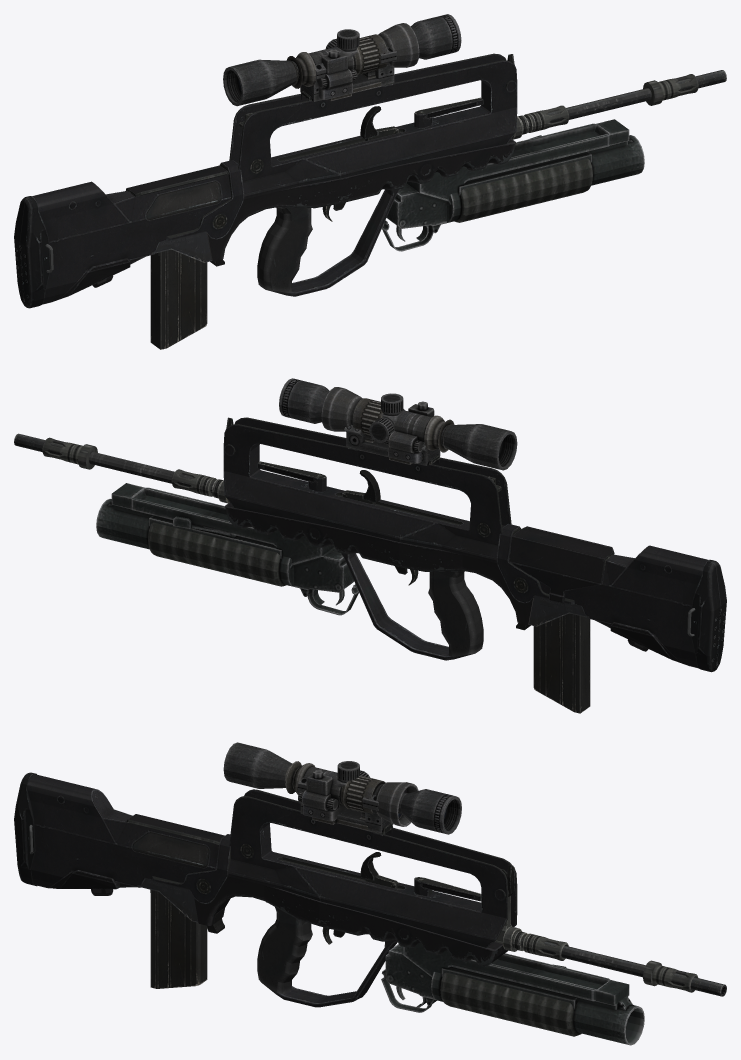
File: AssaultRifle02.FBX
3 views of the same model, one above another, from view 1: azimuth 30°, elevation 25°; view 2: azimuth 150°, elevation 25°; view 3: azimuth 330°, elevation 25° (orthographic).
Visible parts, largest first — view 1: AssaultRifle02_Body01, AssaultRifle02_Imp03, AssaultRifle02_Imp05, AssaultRifle02_Imp04, AssaultRifle02_Imp01, AssaultRifle02_Imp02, AssaultRifle02_Body02; view 2: AssaultRifle02_Body01, AssaultRifle02_Imp03, AssaultRifle02_Imp05, AssaultRifle02_Imp04, AssaultRifle02_Imp01, AssaultRifle02_Imp02, AssaultRifle02_Body02; view 3: AssaultRifle02_Body01, AssaultRifle02_Imp03, AssaultRifle02_Imp05, AssaultRifle02_Imp04, AssaultRifle02_Imp02, AssaultRifle02_Imp01, AssaultRifle02_Body02.
Part boxes in pixels (<box>): AssaultRifle02_Body01: <box>14,53,529,349</box>; AssaultRifle02_Imp03: <box>382,119,644,251</box>; AssaultRifle02_Imp05: <box>223,14,461,106</box>; AssaultRifle02_Imp04: <box>286,23,419,100</box>; AssaultRifle02_Imp01: <box>526,74,698,122</box>; AssaultRifle02_Imp02: <box>527,70,726,129</box>; AssaultRifle02_Body02: <box>524,105,569,132</box>; AssaultRifle02_Body01: <box>211,417,726,713</box>; AssaultRifle02_Imp03: <box>96,483,358,615</box>; AssaultRifle02_Imp05: <box>279,378,517,470</box>; AssaultRifle02_Imp04: <box>321,387,454,464</box>; AssaultRifle02_Imp01: <box>42,437,213,492</box>; AssaultRifle02_Imp02: <box>14,433,214,491</box>; AssaultRifle02_Body02: <box>171,469,216,496</box>; AssaultRifle02_Body01: <box>14,772,527,1007</box>; AssaultRifle02_Imp03: <box>381,942,644,1045</box>; AssaultRifle02_Imp05: <box>223,742,461,834</box>; AssaultRifle02_Imp04: <box>284,761,418,830</box>; AssaultRifle02_Imp02: <box>521,936,726,996</box>; AssaultRifle02_Imp01: <box>522,936,698,992</box>; AssaultRifle02_Body02: <box>522,933,568,960</box>.
Bounding box in the file's own units: 0.8888 × 0.3197 × 0.0607.
6 materials, 6 textured.
